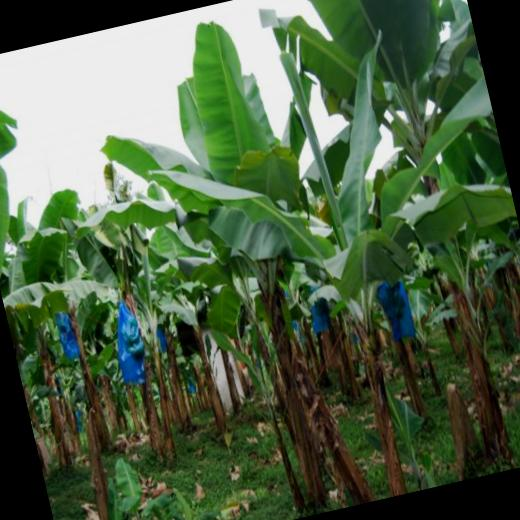Banana: (116, 312, 146, 364), (378, 279, 410, 322), (56, 311, 76, 349), (312, 294, 329, 317)
